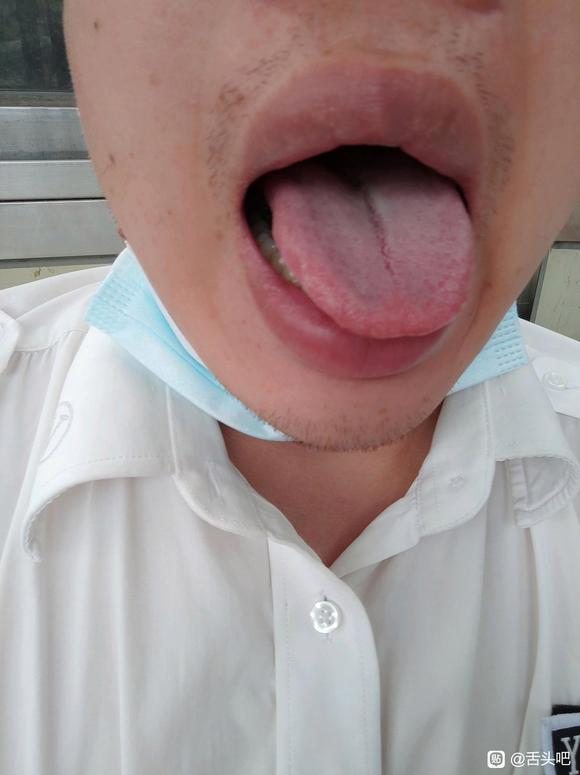baitaishe: (271, 169, 476, 337)
liewenshe: (356, 184, 393, 275)
